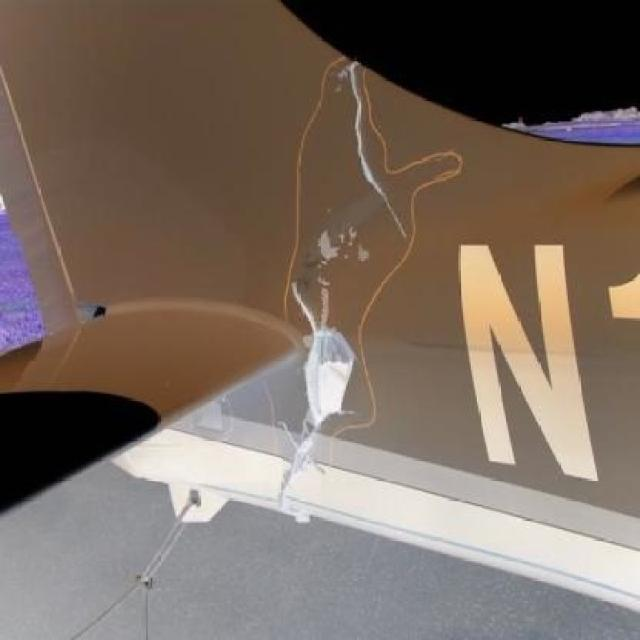crack: (337, 89, 417, 255)
